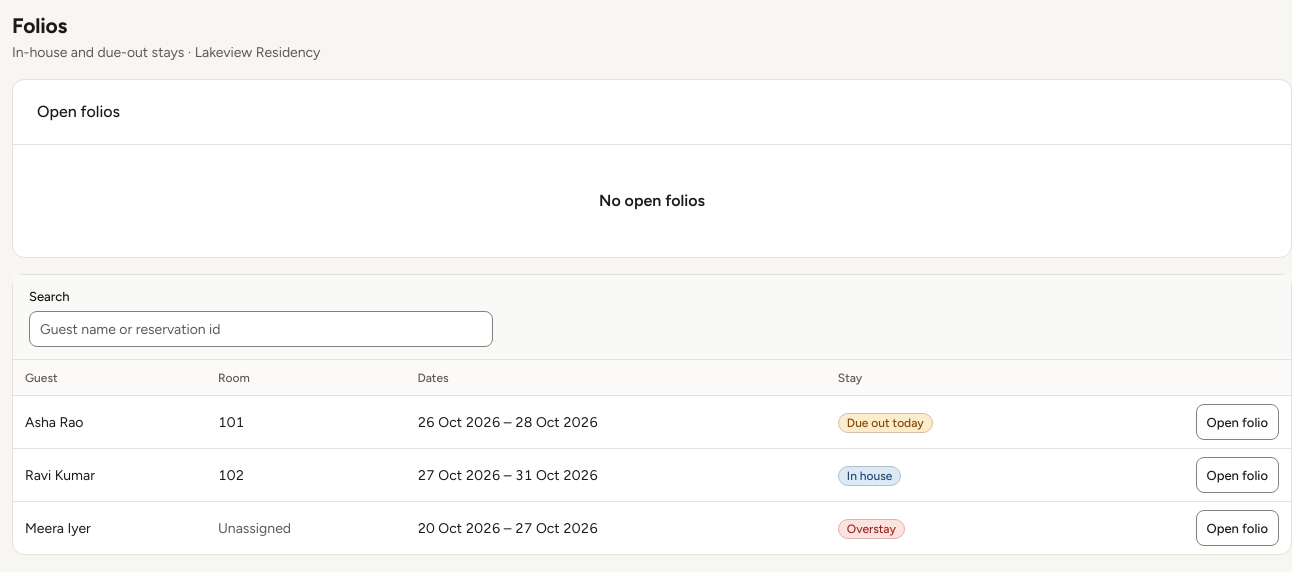
Test: FoliosDirectoryScreen › says no stay matches when neither the list nor the search finds one
Check: the link "Asha Rao" is shown, box [25,414,83,431]
Type "nobody" into the search field labelled "Search" at (261, 330), box [29,312,493,348]
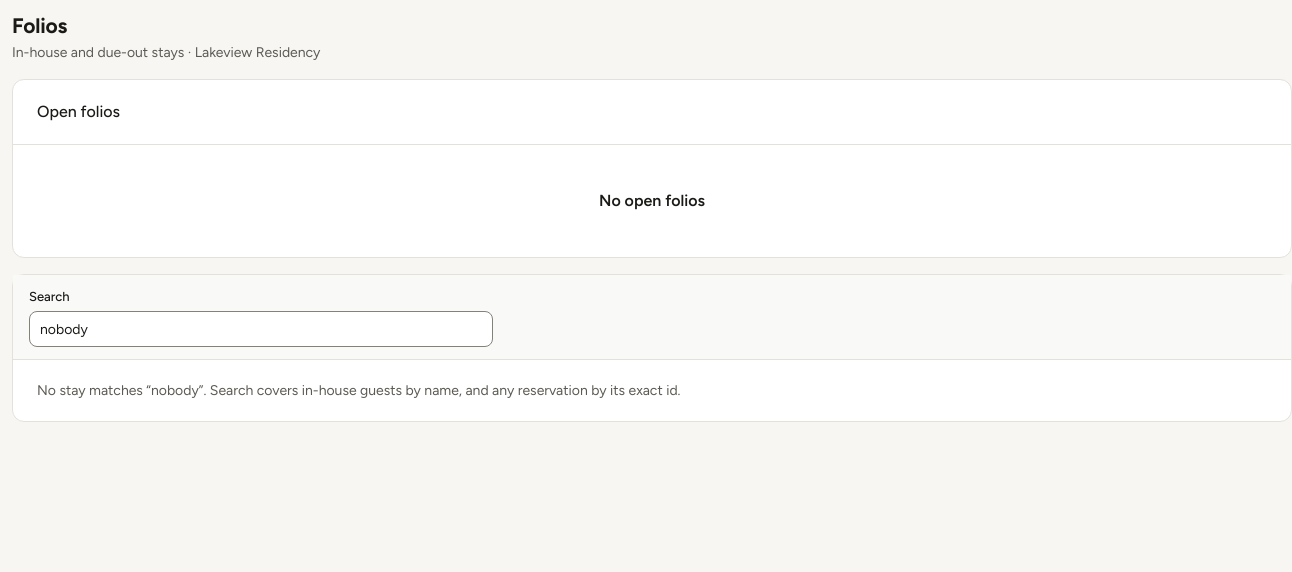
Check: the text with test id "folios-no-match" shows "No stay matches", box [37,382,151,400]
